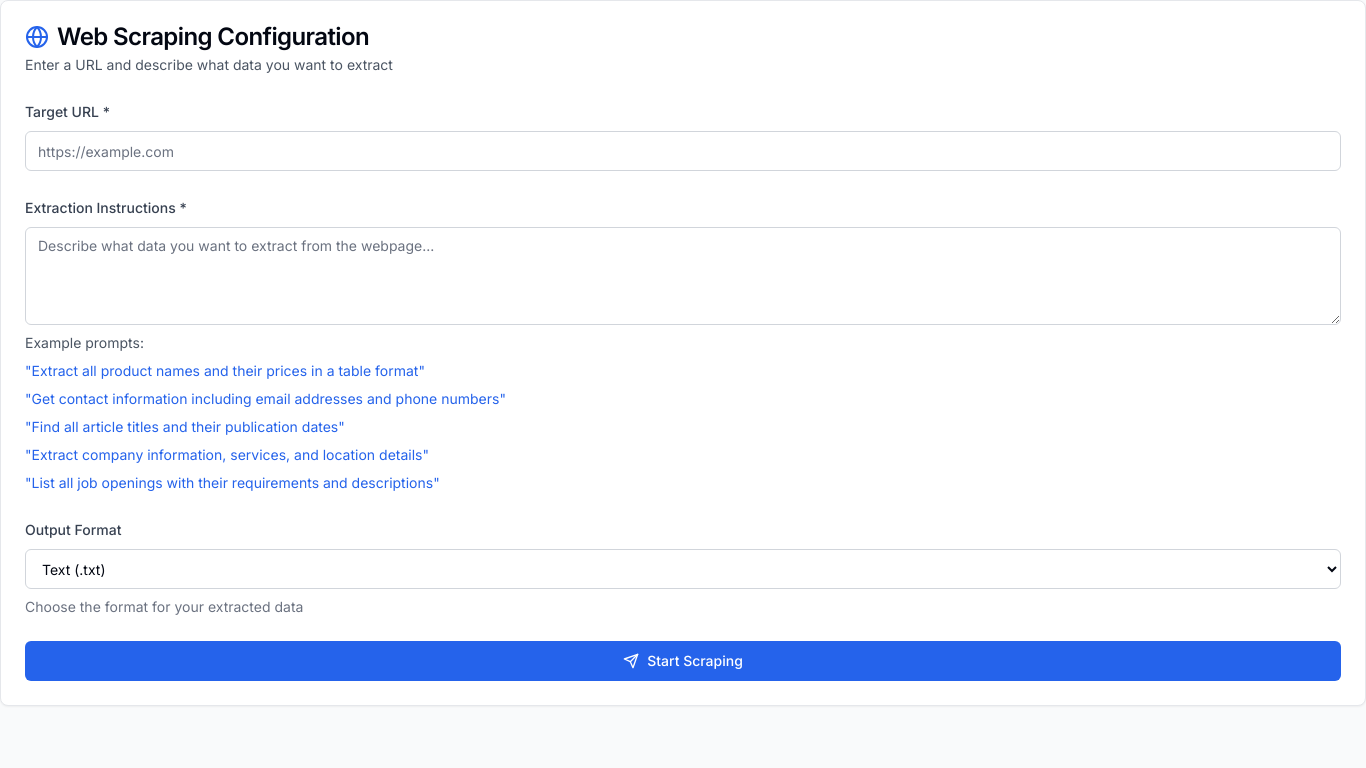
Test: ScrapeForm › validates URL format
The width and height of the screenshot is (1366, 768).
In the field labelled "Target URL *": (683, 151) [25,131,1341,171], type "http://"
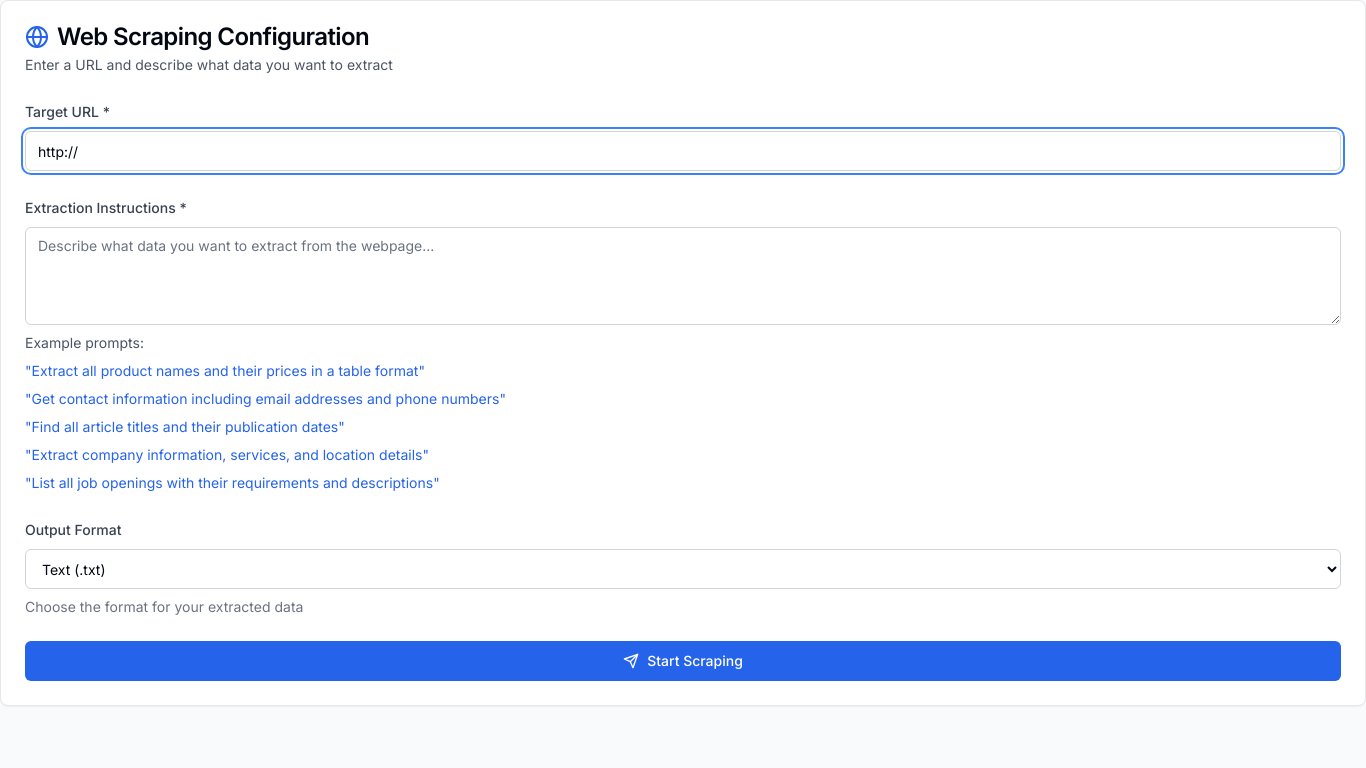
In the text box labelled "Extraction Instructions *": (683, 276) [25,227,1341,325], type "This is a valid prompt"
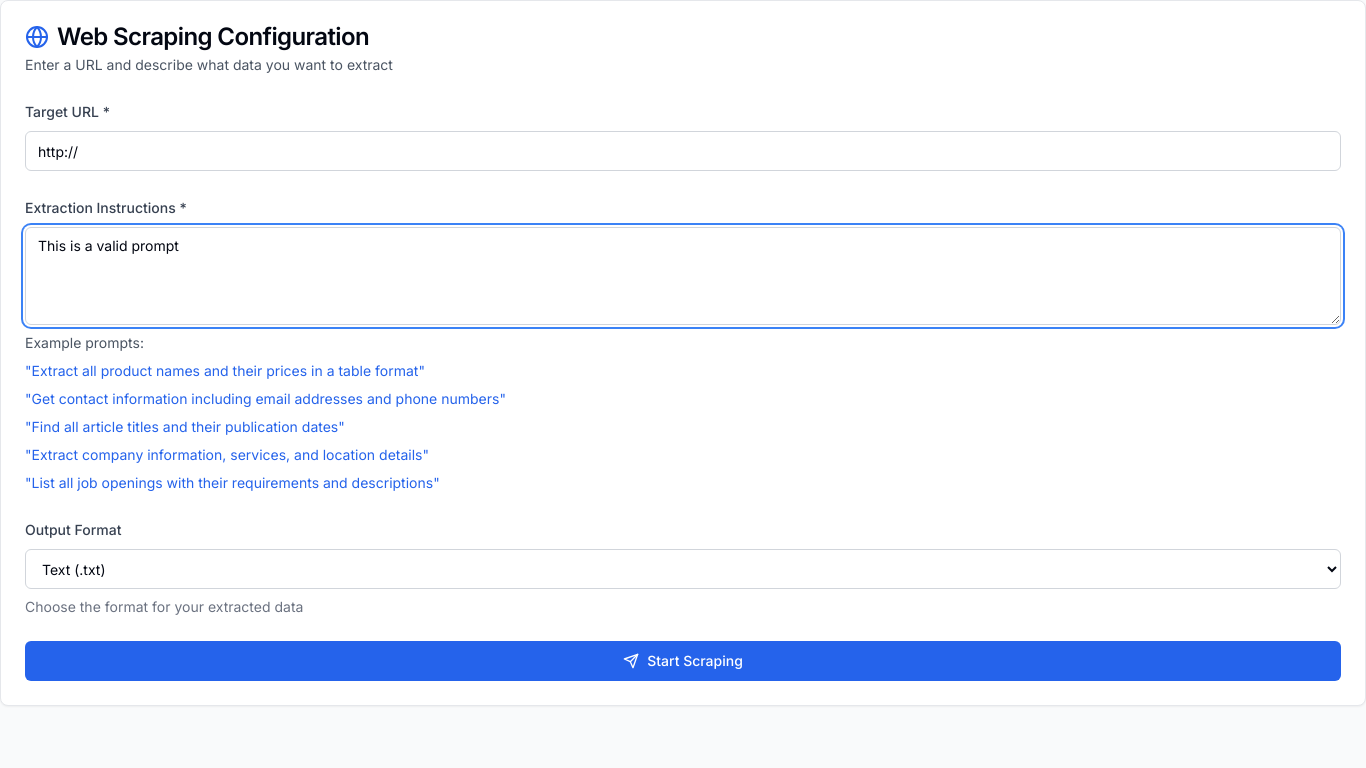
Click the button "Start Scraping": click(683, 661) [25,641,1341,681]
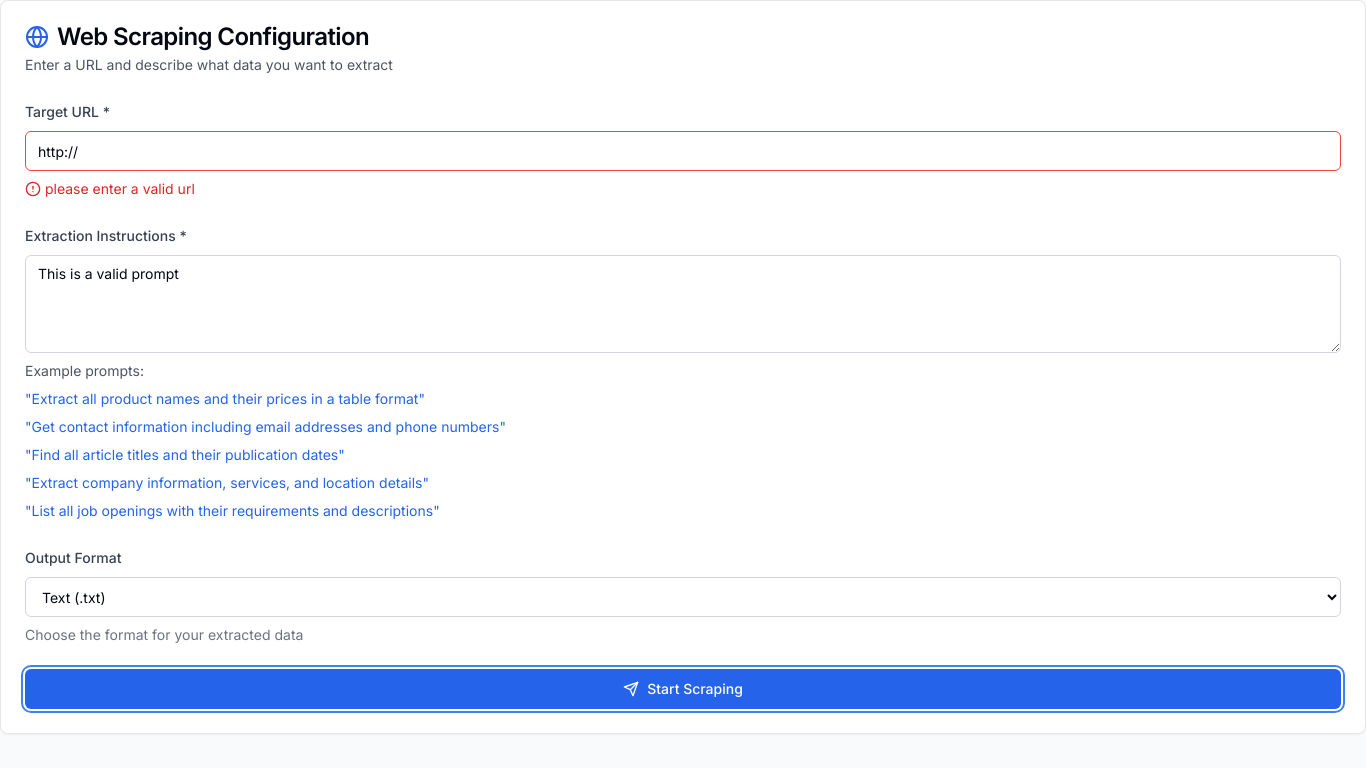
Check: the text "please enter a valid url" is shown, box [45,179,195,199]
